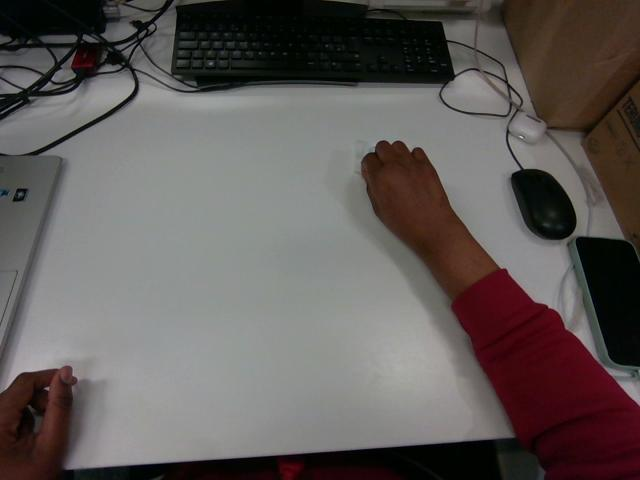gauze: (354, 140, 374, 174)
